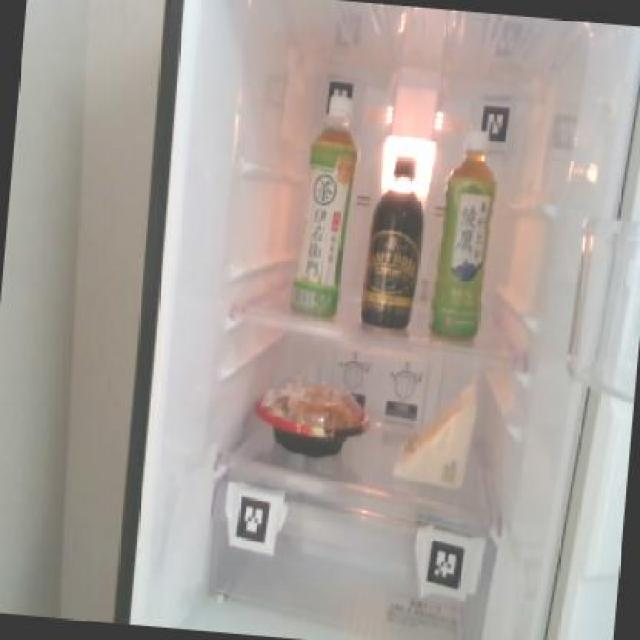bento: (246, 375, 372, 459)
coffee: (357, 153, 429, 330)
sandwich: (391, 378, 480, 497)
tea_a: (426, 136, 496, 341)
tea_i: (286, 107, 360, 324)
